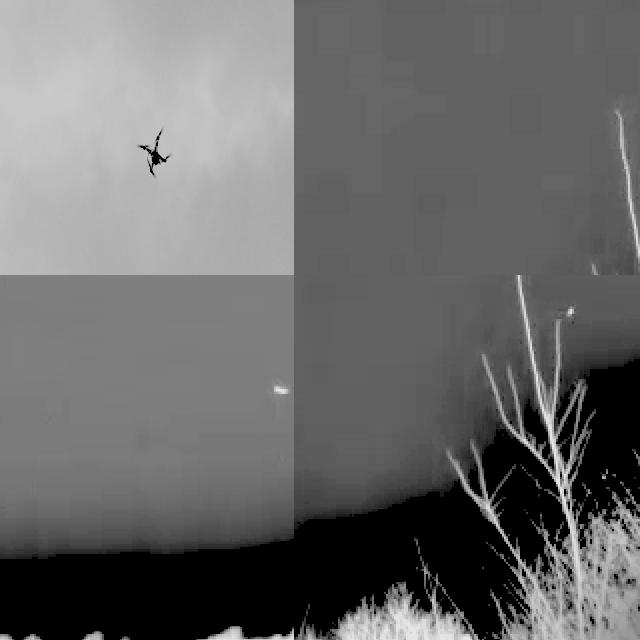0: (557, 300, 583, 328)
1: (265, 380, 294, 410)
drone: (136, 125, 177, 176)
